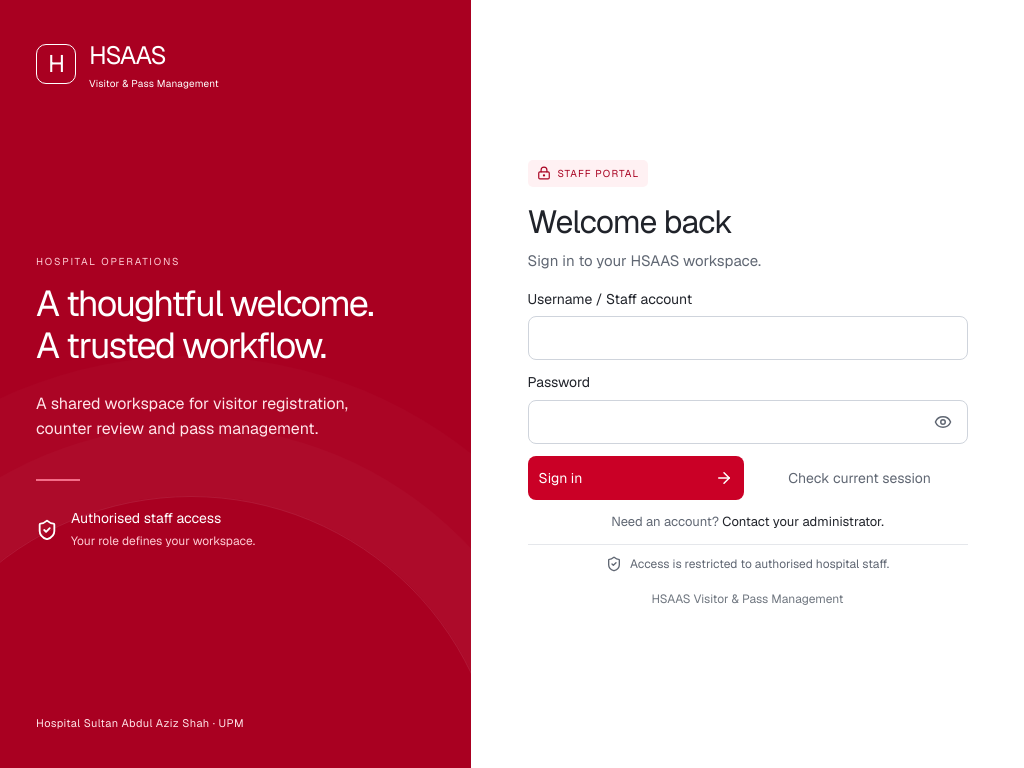
shell auth and role interactions › clears password after a failed login and uses safe failure copy
This screenshot has width=1024, height=768.
Step 1. Type "staff_01" into the field labelled "Username / Staff account" → (748, 338), box x1=528 y1=316 x2=968 y2=360
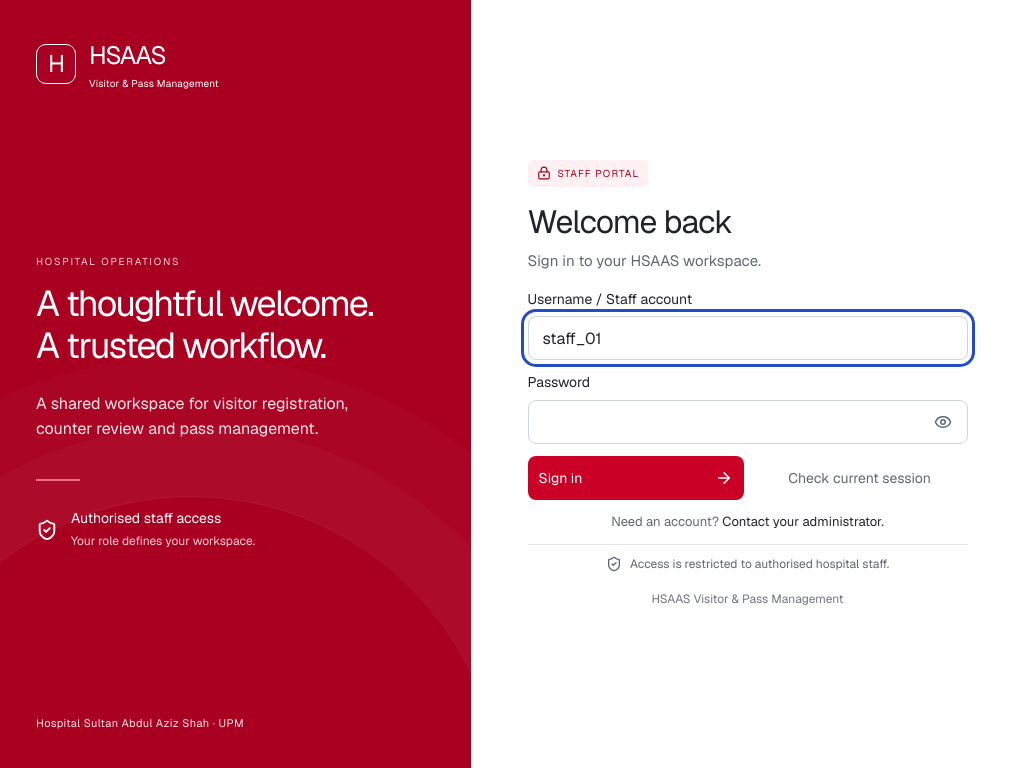
Step 2. Type "synthetic" into the password field labelled "Password" → (748, 422), box x1=528 y1=400 x2=968 y2=444
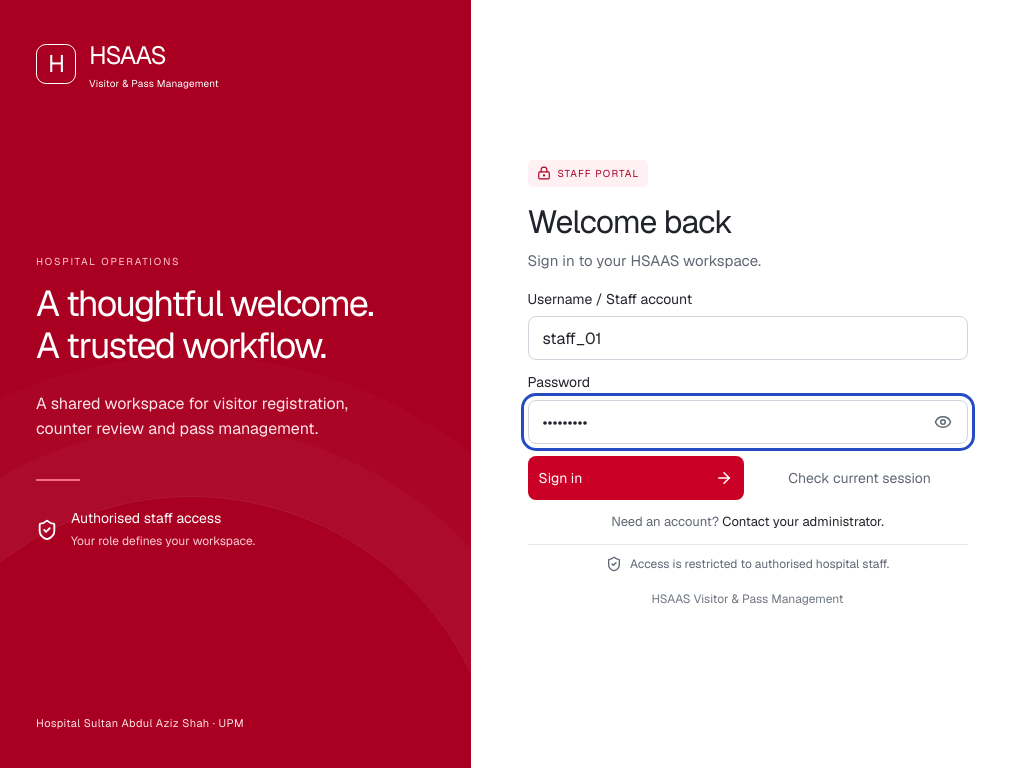
Step 3. Click the button "Sign in" → (636, 478), box x1=528 y1=456 x2=744 y2=500
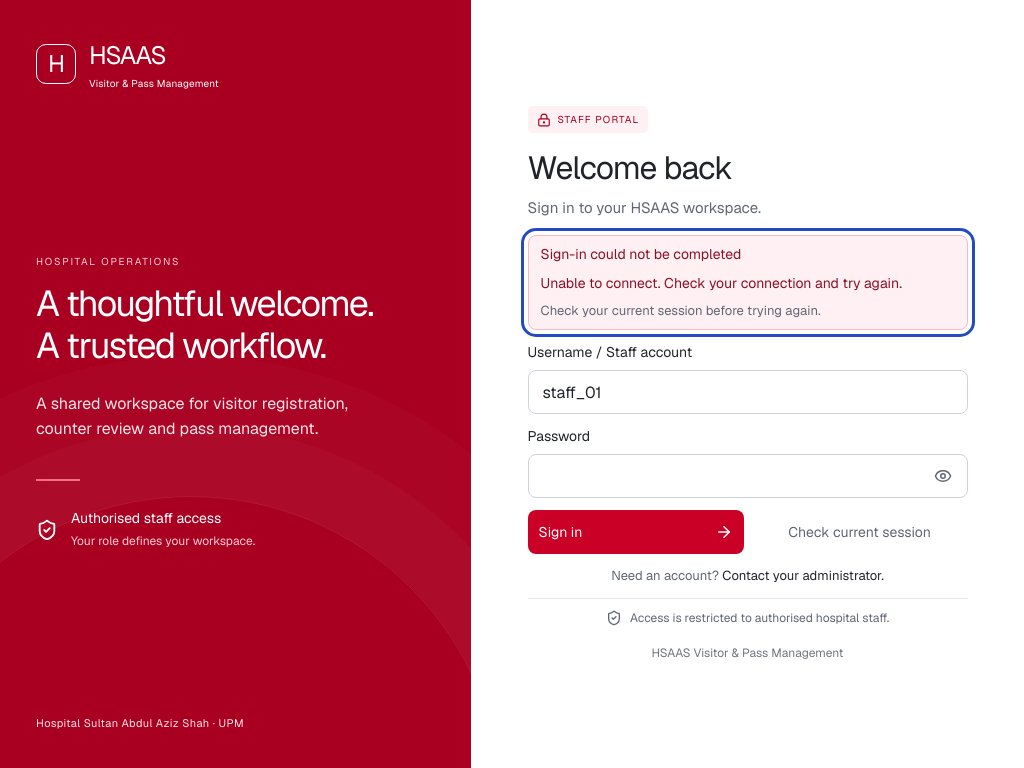
Expected: the button "Check current session" is shown, x1=752 y1=510 x2=968 y2=554
Expected: the text "Unable to connect. Check your connection and try again." is shown, x1=540 y1=273 x2=954 y2=294
Expected: the password field labelled "Password" is empty, x1=528 y1=454 x2=968 y2=498
